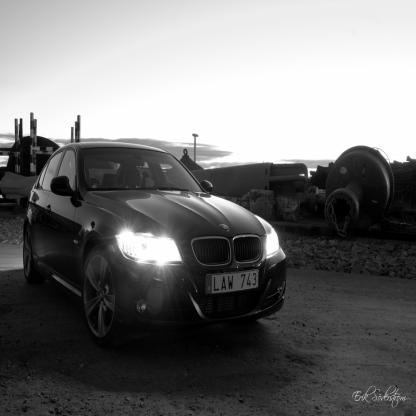Car: (24, 142, 287, 350)
